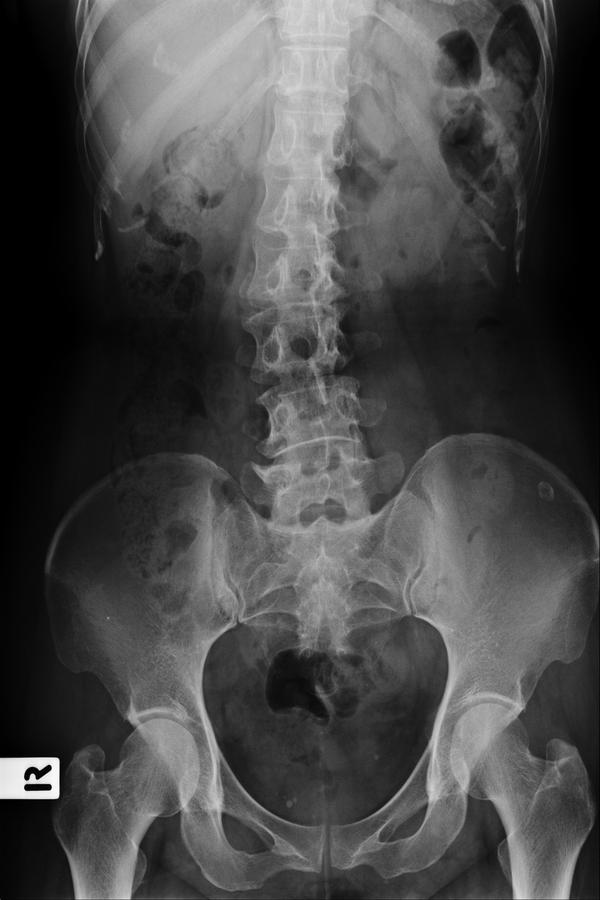lumbar scoliosis: (235, 2, 369, 575)
